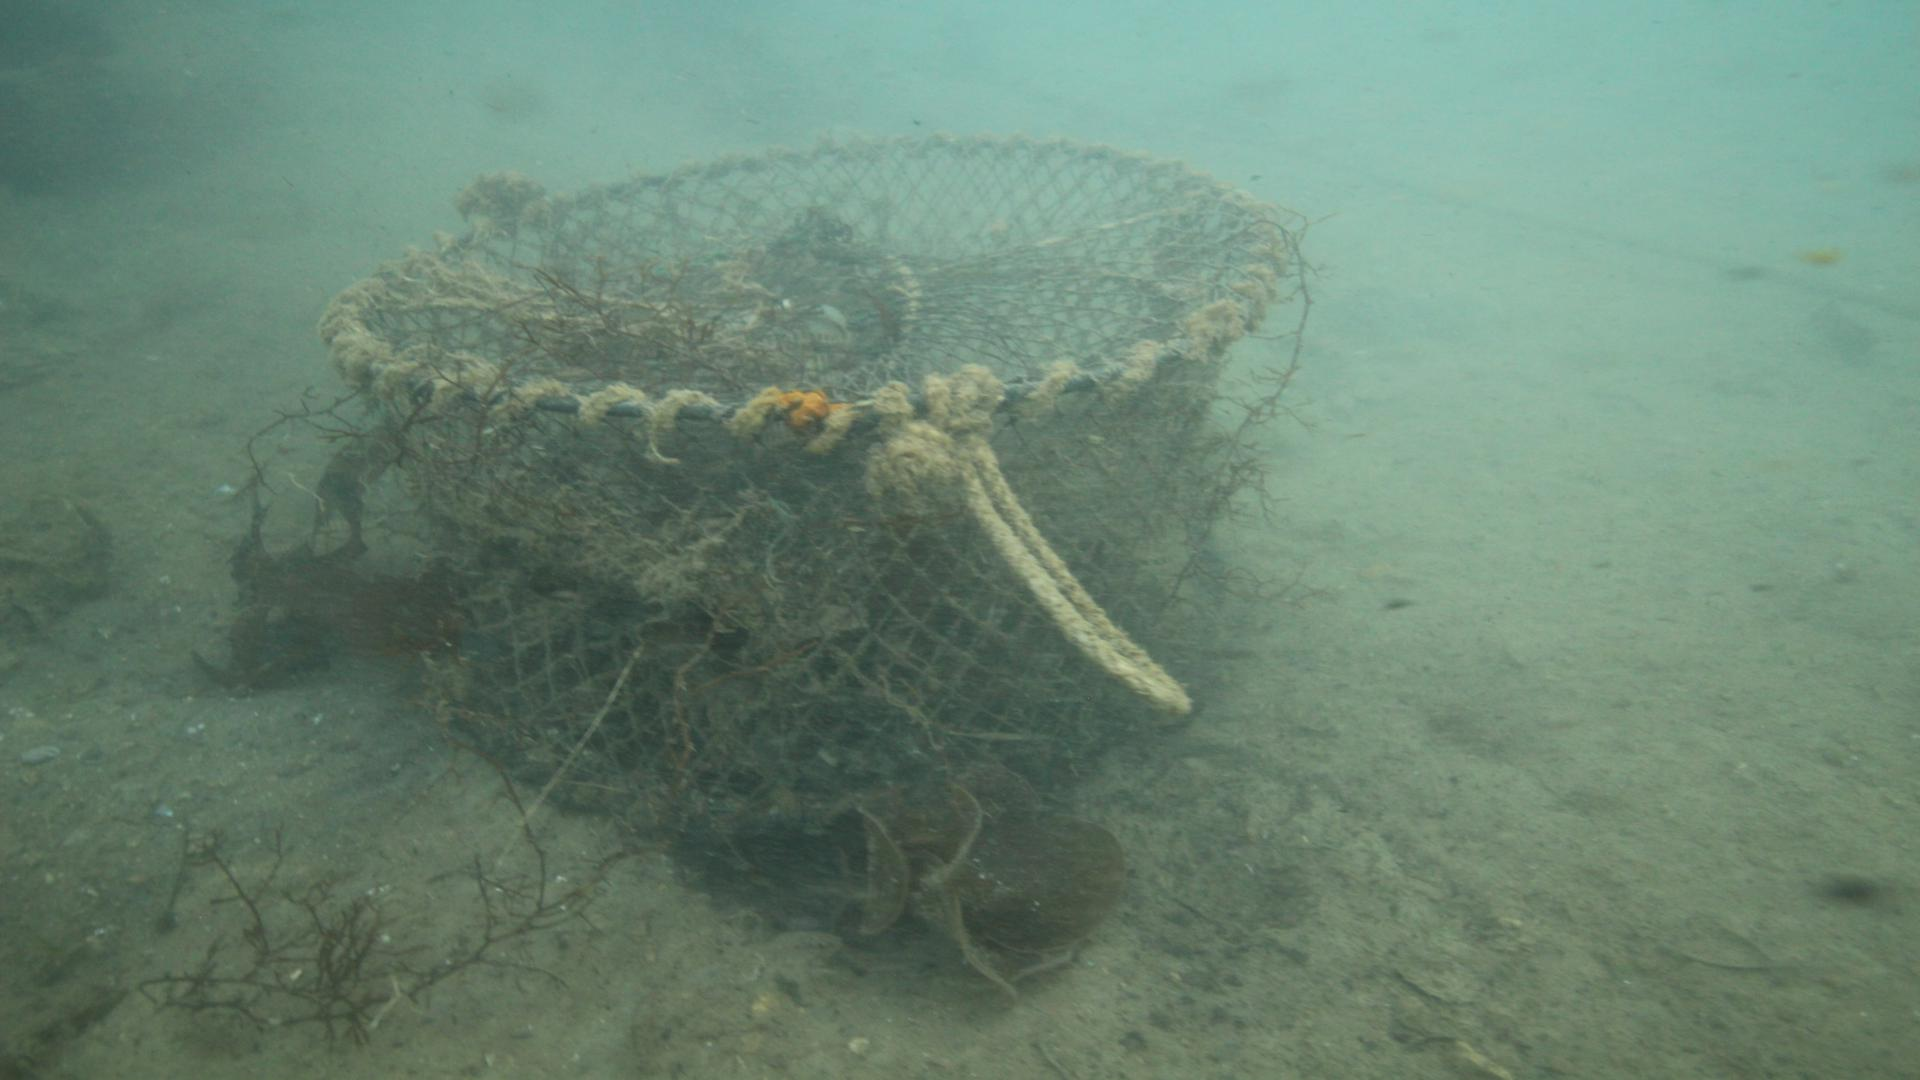circular fish trap: (315, 129, 1284, 833)
